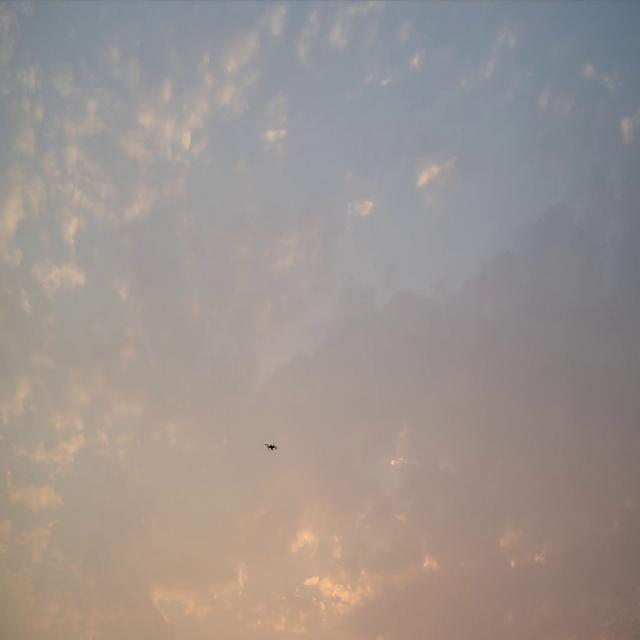UAV: (264, 443, 278, 451)
